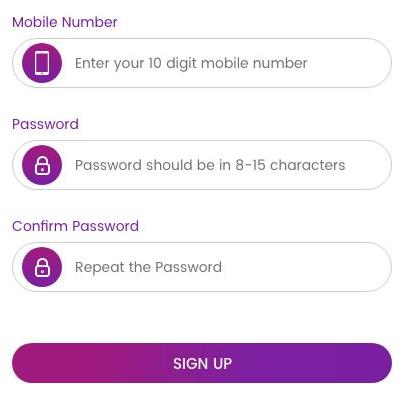button: (12, 343, 392, 385)
field: (11, 137, 392, 192), (10, 240, 393, 294), (13, 35, 392, 89)
field_with_label: (9, 117, 397, 196), (5, 220, 398, 297), (9, 14, 396, 90)
